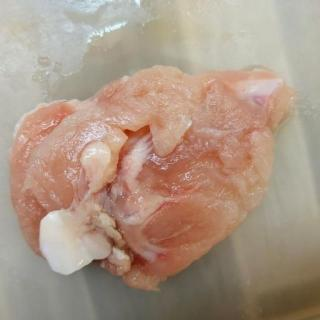Ayam: (9, 65, 296, 293)
